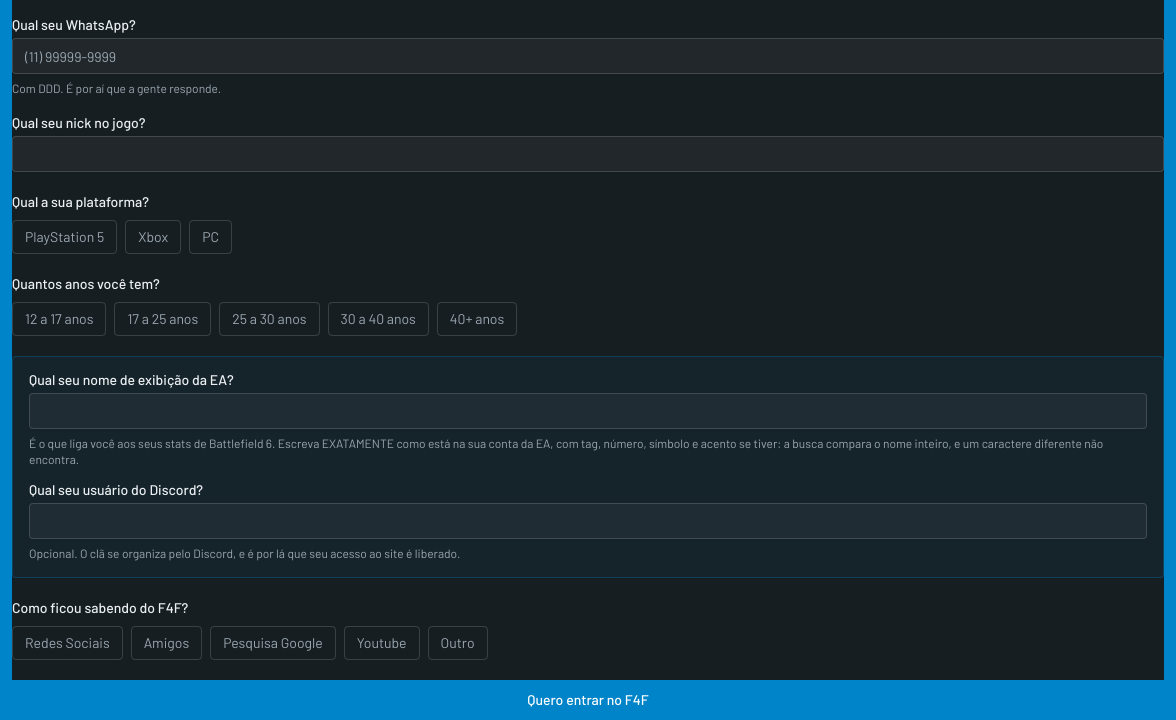
Test: RecruitForm › opens the free-text field only when Outro is chosen
The width and height of the screenshot is (1176, 720).
(page scrolled)
Expected: the field labelled "onde, especificamente" is not shown
Click the radio button labelled "Outro". click: (458, 643)
box: [428,626,488,660]
(page scrolled)
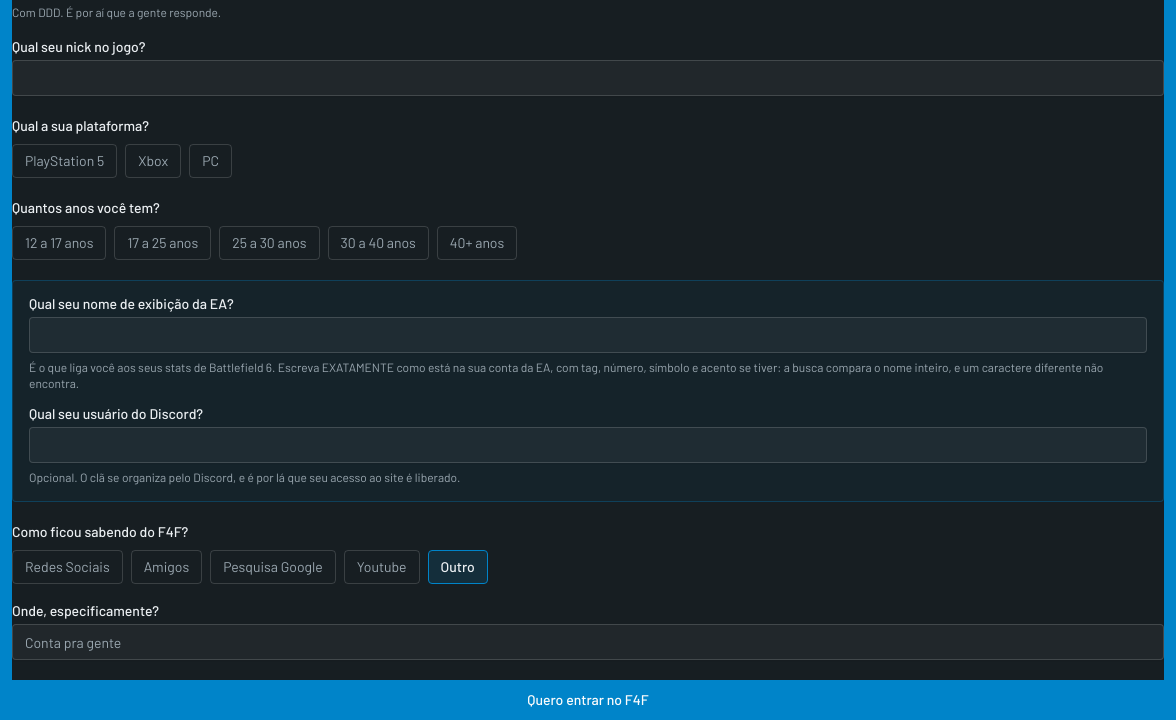
Expected: the field labelled "Onde, especificamente?" is shown, [12,624,1164,660]
